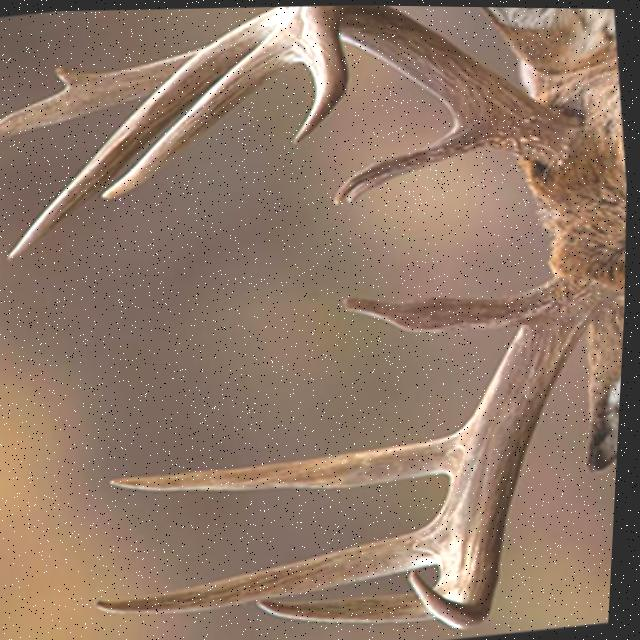L-F: (290, 4, 585, 170)
L-G1: (333, 121, 489, 205)
L-G3: (4, 4, 292, 260)
L-G4: (101, 4, 301, 200)
R-F: (413, 276, 620, 628)
R-G1: (344, 281, 547, 332)
R-G2: (110, 430, 463, 491)
R-G3: (101, 515, 450, 614)
